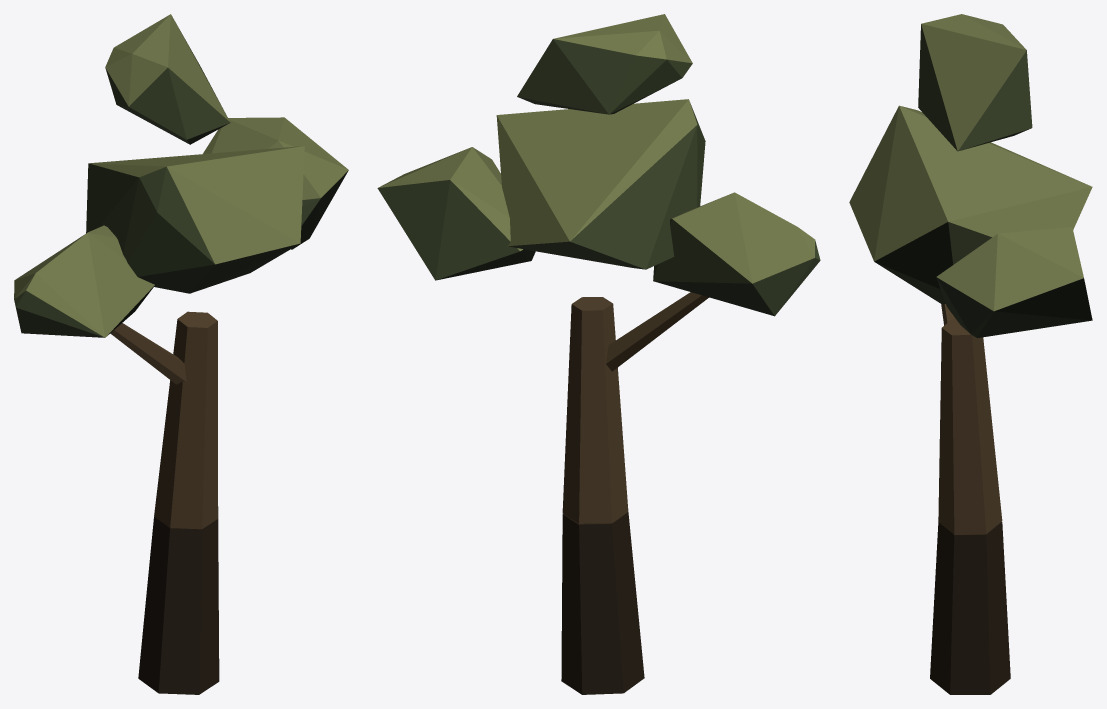
File: tree_lone.glb
The picture shows the model from 3 angles, left to right: view 1: azimuth 30°, elevation 25°; view 2: azimuth 150°, elevation 25°; view 3: azimuth 270°, elevation 25°; orthographic projection. The views are drawn at different scales.
Visible parts, largest first — view 1: tree_lone; view 2: tree_lone; view 3: tree_lone.
Boxes of the visible parts, bbox=[...] form: tree_lone: bbox=[14, 14, 348, 694]; tree_lone: bbox=[377, 14, 820, 694]; tree_lone: bbox=[849, 14, 1092, 694].
Size of the model in its own units: 2.52 by 4.2 by 1.45.
